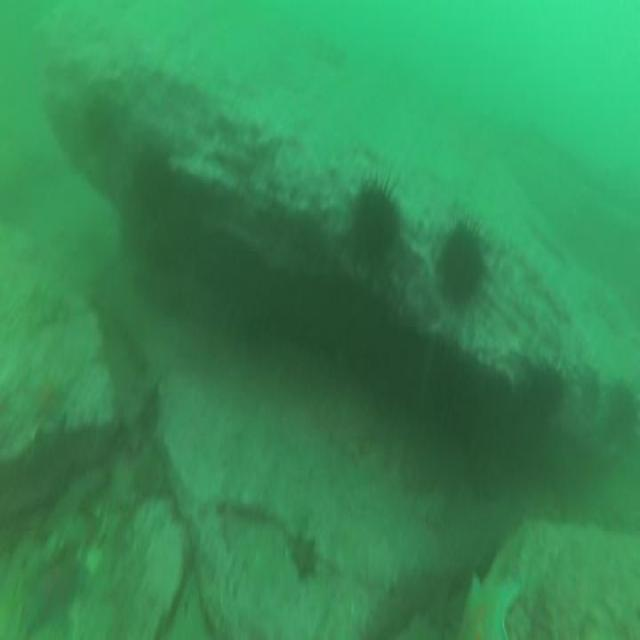echinus: (434, 209, 493, 319), (348, 168, 406, 278), (127, 141, 181, 232), (520, 355, 567, 430), (600, 374, 640, 450), (81, 95, 120, 167)
holothurian: (0, 272, 70, 330)
starfish: (15, 539, 85, 640), (451, 562, 521, 640), (22, 375, 73, 436), (286, 524, 324, 590)
